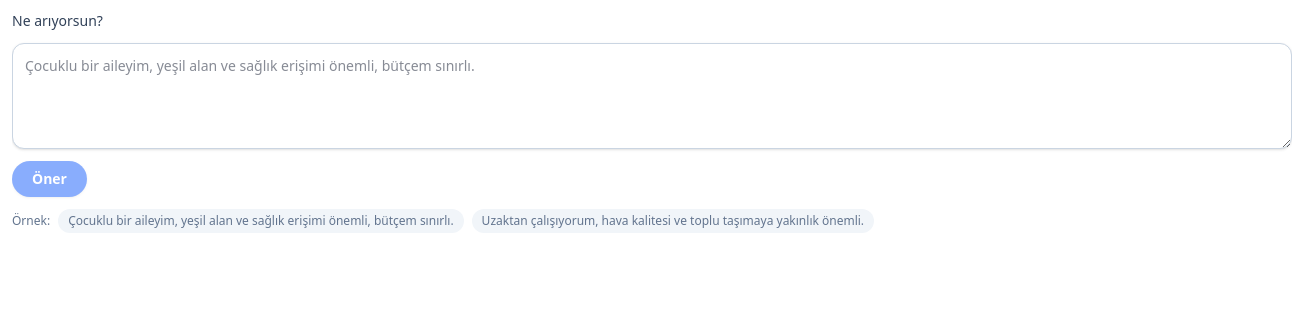
Test case: AssistantClient › shows a generic Turkish error message when the request fails outright
Replace the text in the text box labelled "Ne arıyorsun?" with "bir istek" at (652, 96), box left=12, top=43, right=1292, bottom=149
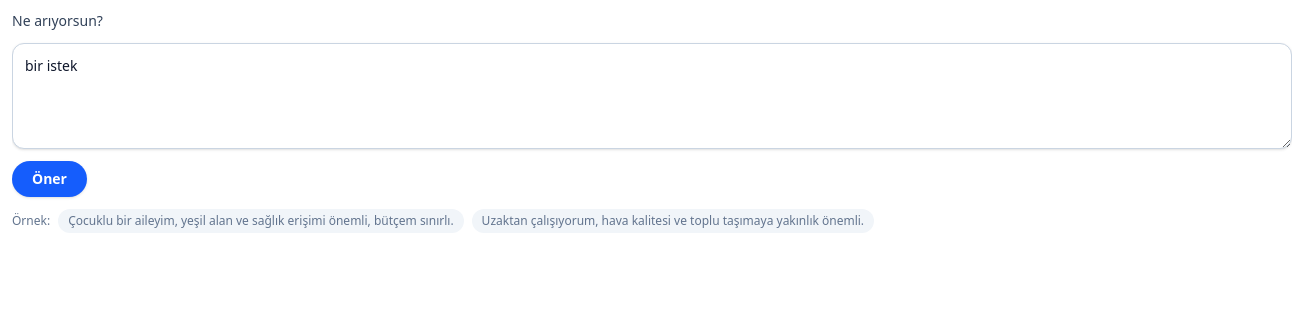
Click the button "Öner" at (50, 179), box left=12, top=161, right=87, bottom=197
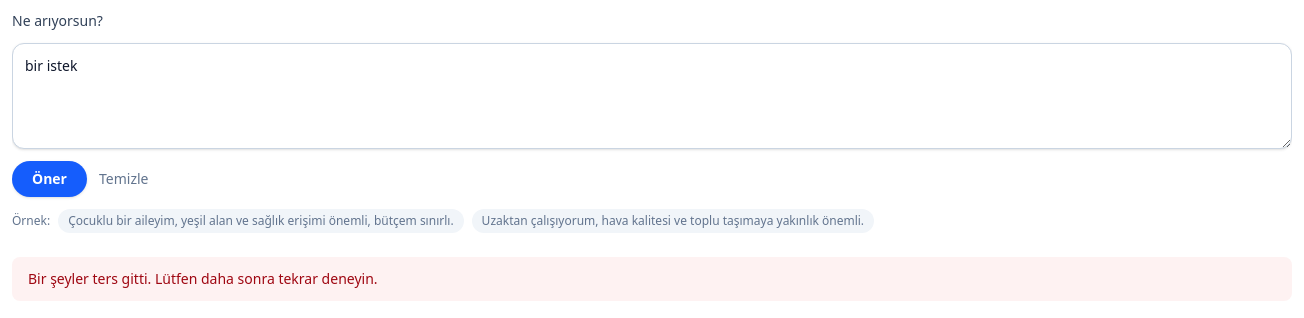
expect the text "Bir şeyler ters gitti. Lütfen daha sonra tekrar deneyin." is shown: met, box left=12, top=257, right=1292, bottom=301
